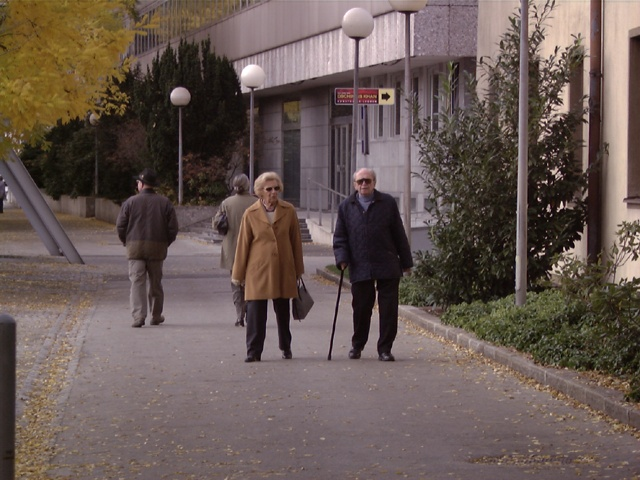person: (332, 161, 409, 358), (236, 170, 301, 361), (115, 166, 176, 329)
